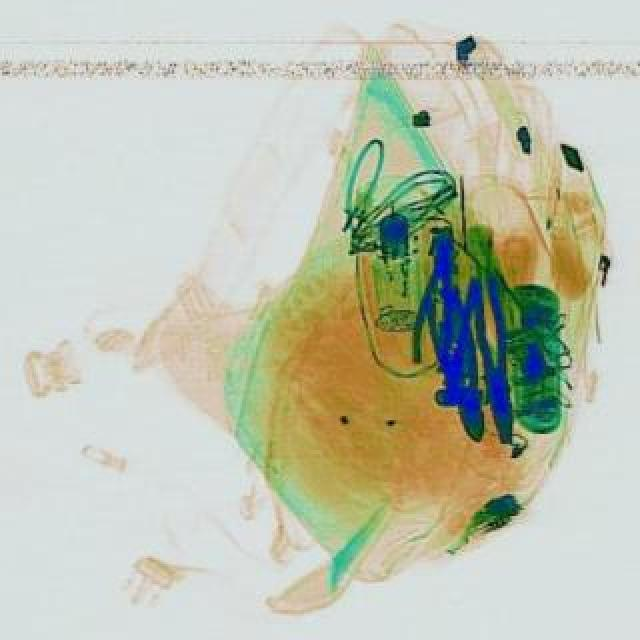wrench: (420, 284, 496, 444), (408, 224, 472, 364), (466, 274, 518, 444)
